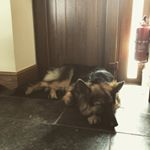puppy: (40, 64, 129, 133)
